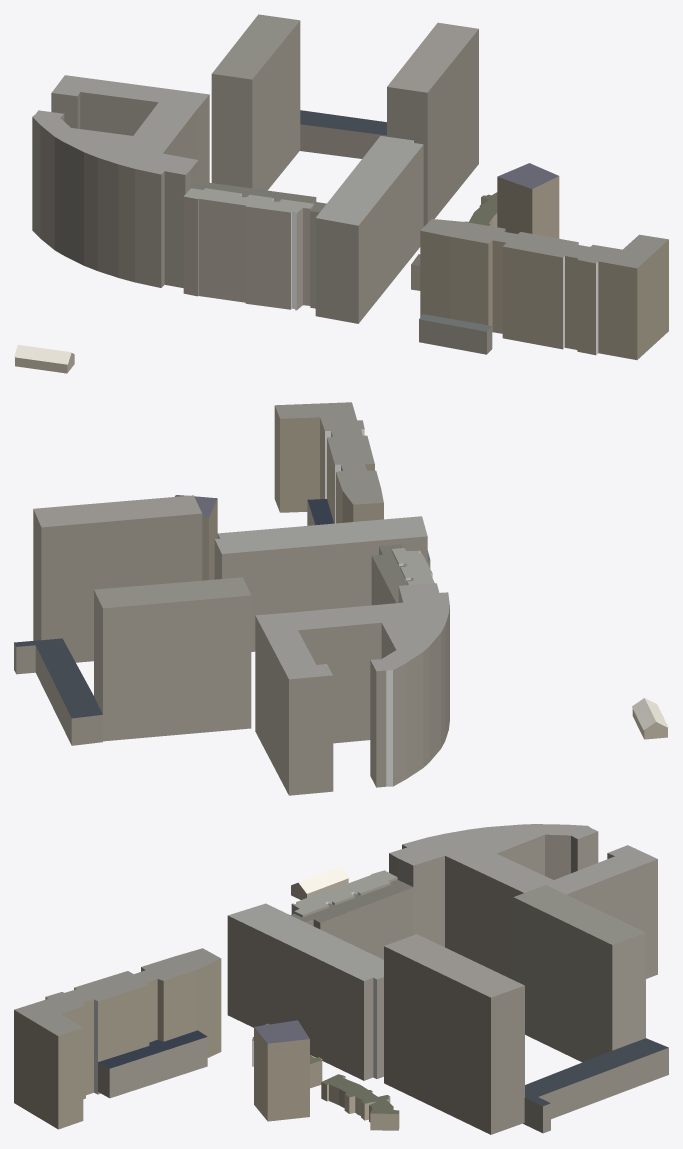
3 renders of one model, top to bottom at view 1: azimuth 30°, elevation 25°; view 2: azimuth 150°, elevation 25°; view 3: azimuth 270°, elevation 25°, orthographic. The views are drawn at different scales.
Visible parts, largest first — view 1: tuile; view 2: tuile; view 3: tuile.
Part boxes in pixels (x1=…): tuile: x1=14, y1=14, x2=668, y2=373; tuile: x1=14, y1=402, x2=668, y2=795; tuile: x1=14, y1=824, x2=668, y2=1134.
Size of the model in its own units: 255 by 66.65 by 263.
